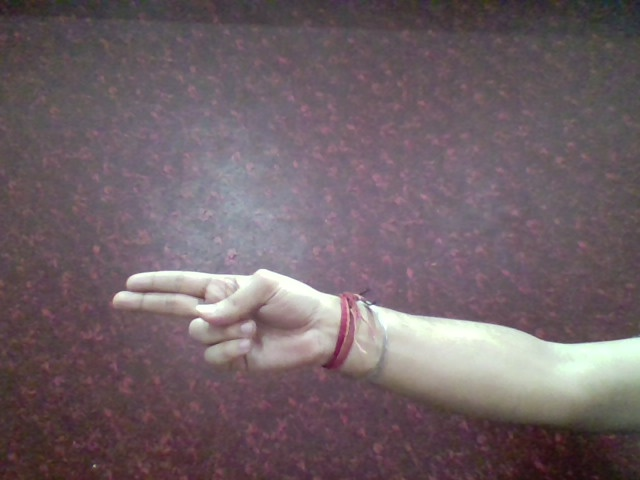h: (104, 245, 326, 391)
